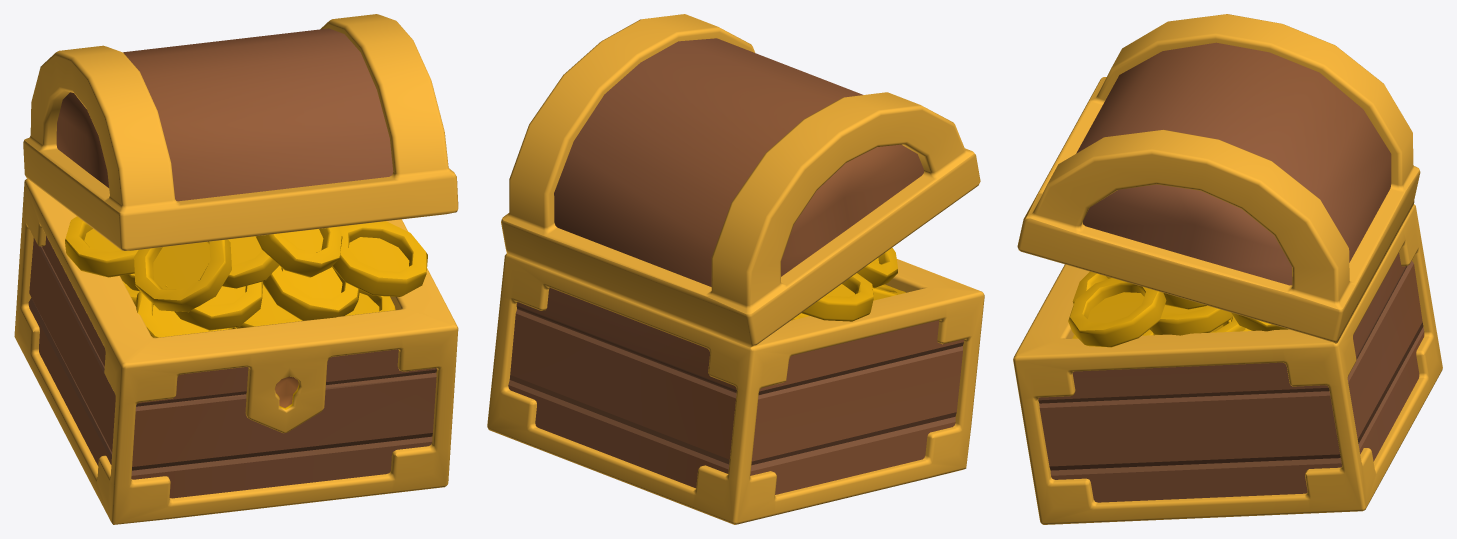
3 views of the same model, side by side, from view 1: azimuth 30°, elevation 25°; view 2: azimuth 150°, elevation 25°; view 3: azimuth 270°, elevation 25° (orthographic). The views are drawn at different scales.
Visible parts, largest first — view 1: model_1.100; view 2: model_1.100; view 3: model_1.100.
Boxes of the visible parts, bbox=[...] form: model_1.100: bbox=[14, 14, 458, 524]; model_1.100: bbox=[487, 14, 984, 524]; model_1.100: bbox=[1013, 14, 1442, 524].
Bounding box in the file's own units: 5.04 × 5.27 × 5.27.
